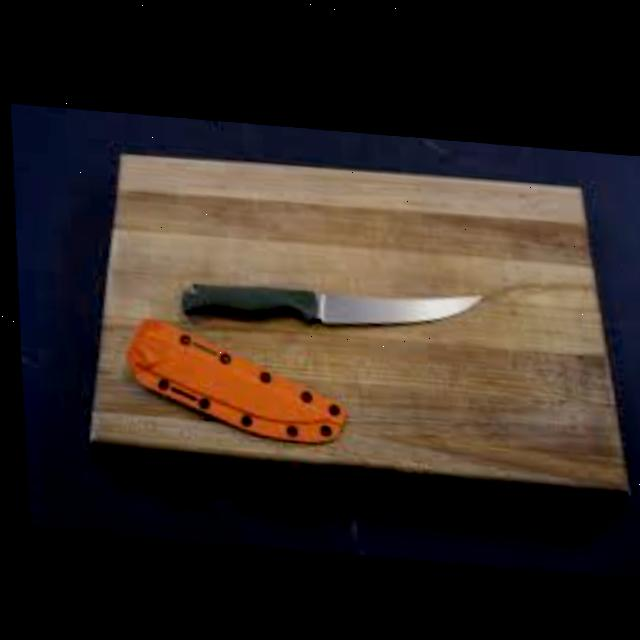Knife: (173, 265, 482, 332)
